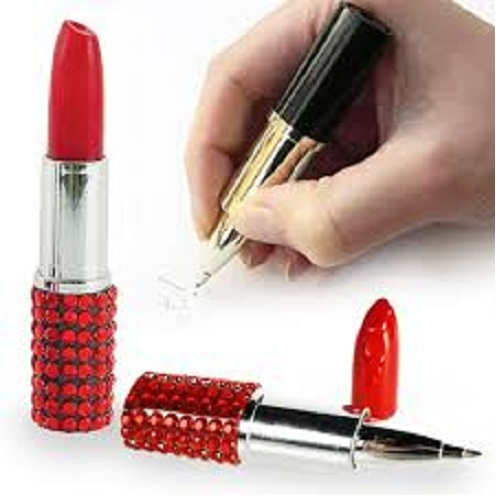Boligrafo: (188, 3, 401, 303), (120, 365, 488, 480)
